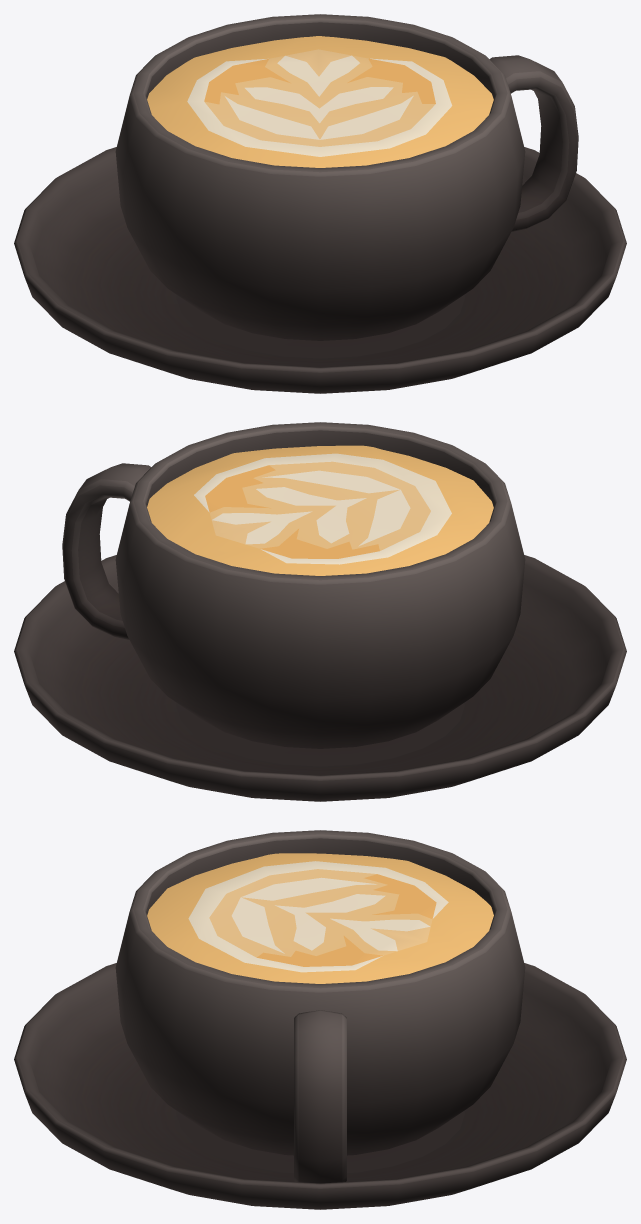
The model's file is coffee_006.fbx.
3 views of the same model, one above another, from view 1: azimuth 30°, elevation 25°; view 2: azimuth 150°, elevation 25°; view 3: azimuth 270°, elevation 25° (orthographic).
Visible parts, largest first — view 1: coffee_006; view 2: coffee_006; view 3: coffee_006.
Part boxes in pixels (x1,y1,x2,y2): coffee_006: [14, 14, 626, 393]; coffee_006: [14, 422, 626, 801]; coffee_006: [14, 830, 626, 1209].
Bounding box in the file's own units: 14.3 × 14.3 × 5.46.
